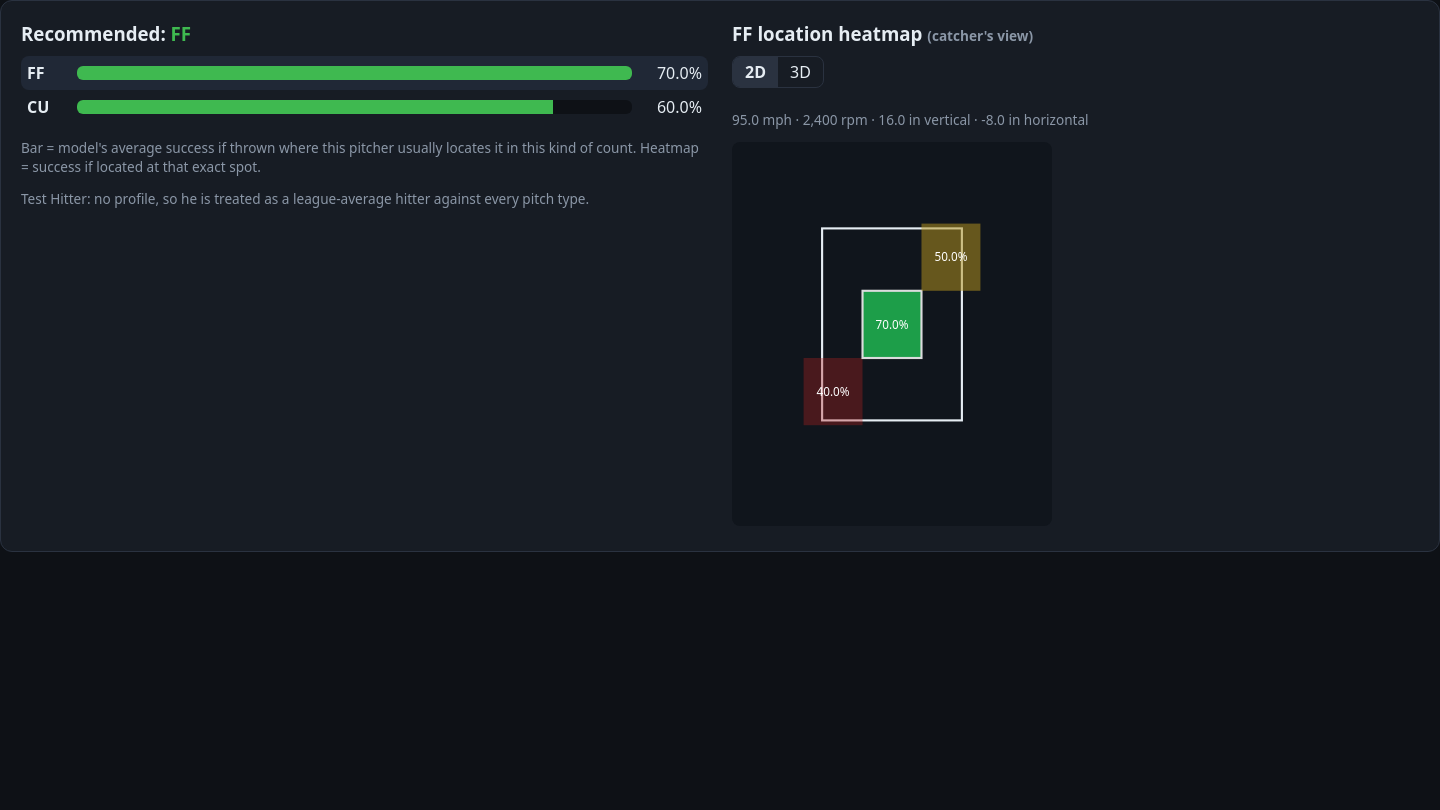
Test case: Results › shows the selected pitch's velocity and spin, and the batter card when there is a batter
This screenshot has width=1440, height=810.
expect the text "95.0 mph · 2,400 rpm · 16.0 in vertical · -8.0 in horizontal" is shown: met, box [732,110,1089,129]
expect the text "Test Hitter: no profile" is shown: met, box [21,189,589,208]
Click the text "CU" at (38, 107), box [27,96,49,118]
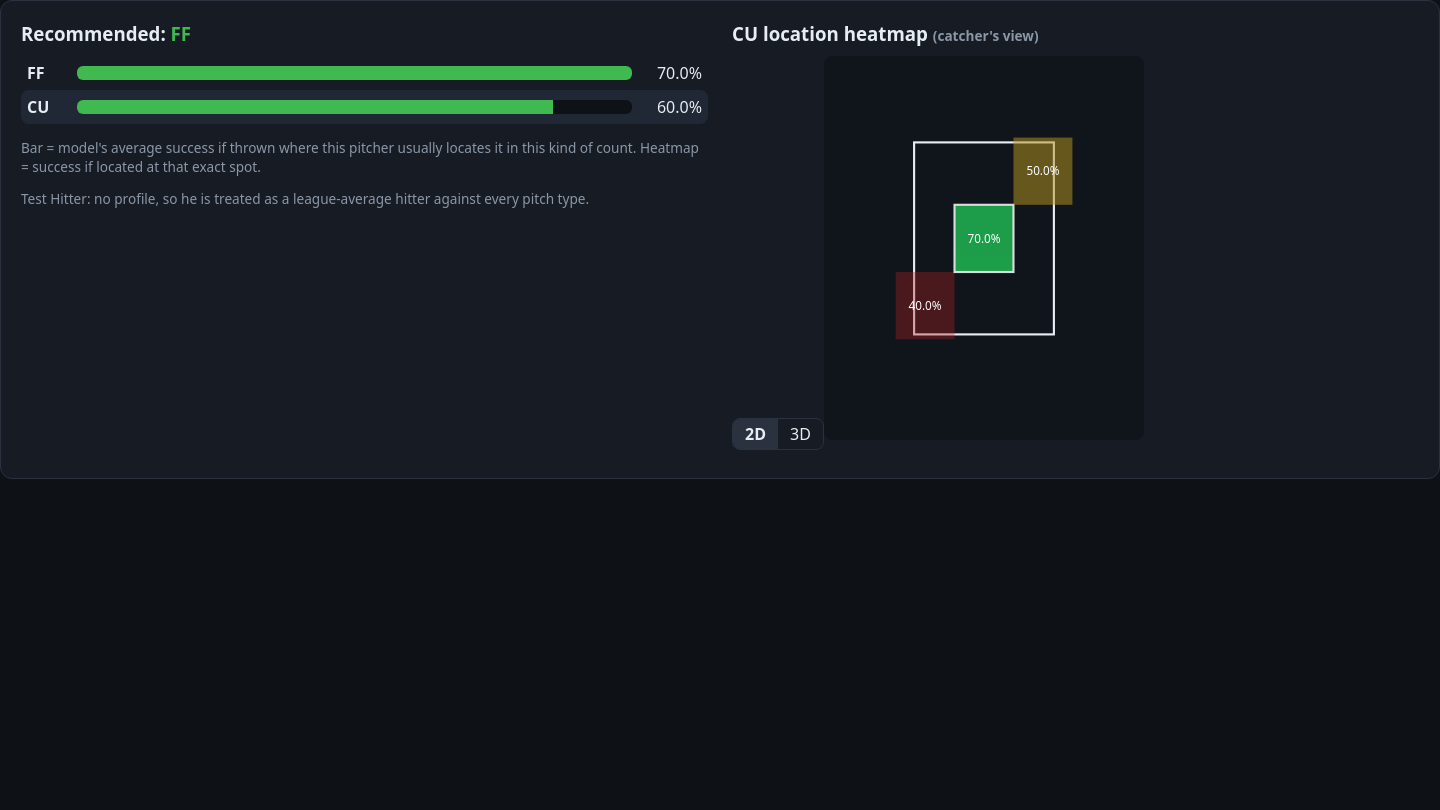
expect the text "mph" is gone: met
